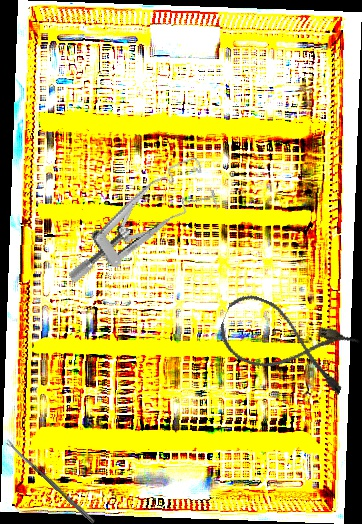Cannula: (211, 288, 362, 399)
Speculum: (45, 153, 227, 287)
Surgical Spoon: (5, 439, 96, 524)
